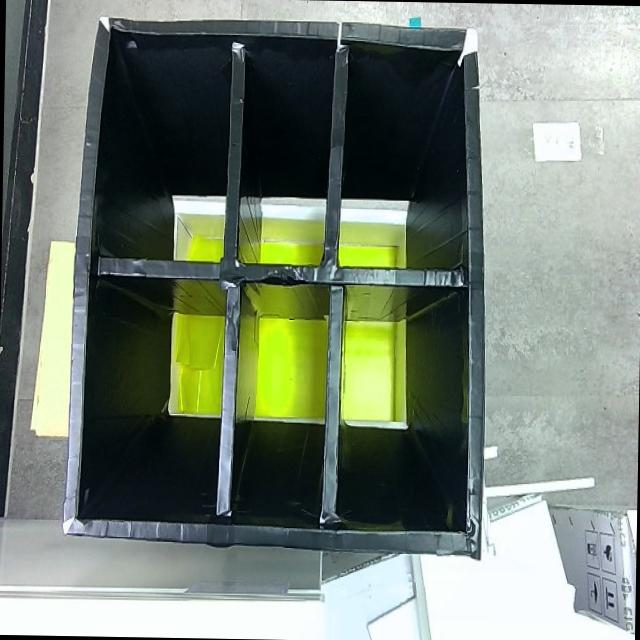box: (59, 13, 496, 557)
